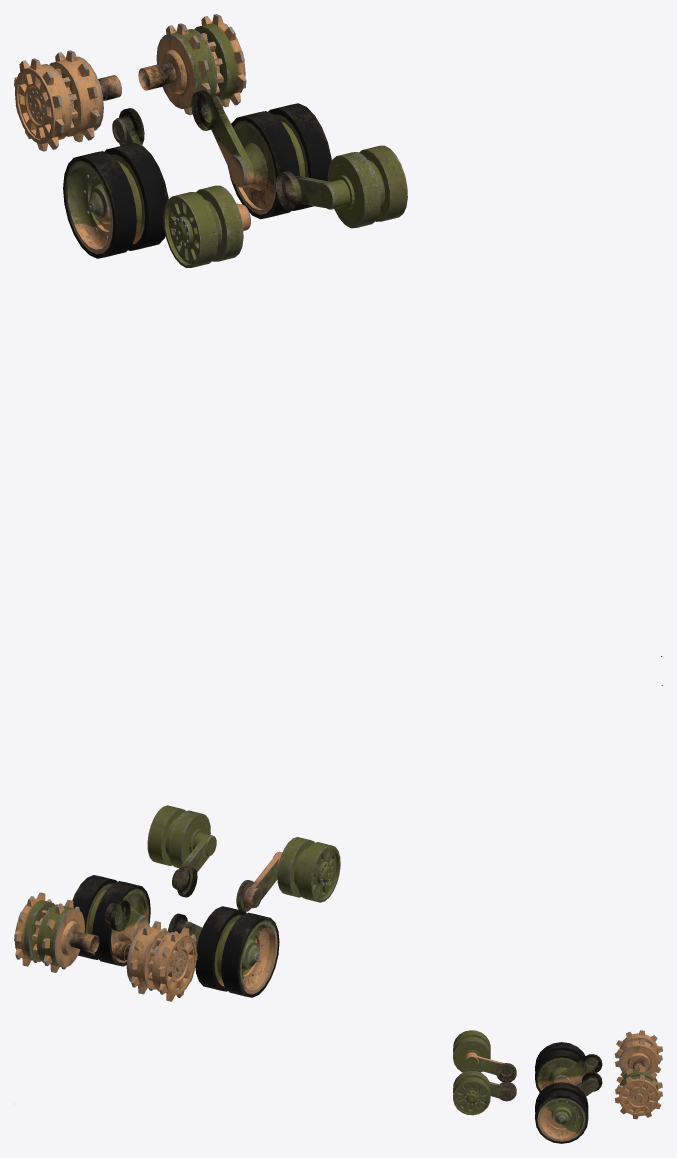
File: tank_running.glb
The picture shows the model from 3 angles, top to bottom: view 1: azimuth 30°, elevation 25°; view 2: azimuth 150°, elevation 25°; view 3: azimuth 270°, elevation 25°; orthographic projection. The views are drawn at different scales.
Parts seen in each view (by area): view 1: wheel_8, wheel_0, wheel_6, wheel_15, wheel_7, wheel_11; view 2: wheel_8, wheel_0, wheel_11, wheel_7, wheel_6, wheel_15; view 3: wheel_0, wheel_8, wheel_7, wheel_11, wheel_15, wheel_6.
Part boxes in pixels (left/top/right/bottom): wheel_8: left=63, top=108, right=168, bottom=258; wheel_0: left=191, top=90, right=331, bottom=218; wheel_6: left=14, top=50, right=121, bottom=151; wheel_15: left=275, top=145, right=407, bottom=228; wheel_7: left=138, top=14, right=246, bottom=115; wheel_11: left=163, top=185, right=250, bottom=268; wheel_8: left=168, top=906, right=279, bottom=997; wheel_0: left=72, top=875, right=150, bottom=966; wheel_11: left=236, top=837, right=340, bottom=911; wheel_7: left=14, top=892, right=99, bottom=972; wheel_6: left=112, top=921, right=197, bottom=1001; wheel_15: left=147, top=805, right=216, bottom=897; wheel_0: left=535, top=1072, right=602, bottom=1143; wheel_8: left=535, top=1042, right=602, bottom=1092; wheel_7: left=614, top=1066, right=662, bottom=1119; wheel_11: left=453, top=1030, right=516, bottom=1081; wheel_15: left=453, top=1070, right=516, bottom=1115; wheel_6: left=614, top=1030, right=662, bottom=1076.
Size of the model in its own units: 147 by 92.84 by 751.
Materials: 2 (2 with a texture image).
